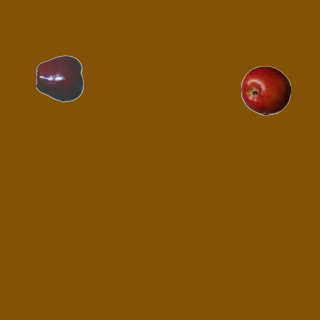Apple Braeburn: (240, 65, 290, 115)
Apple Red Delicious: (35, 53, 85, 103)
